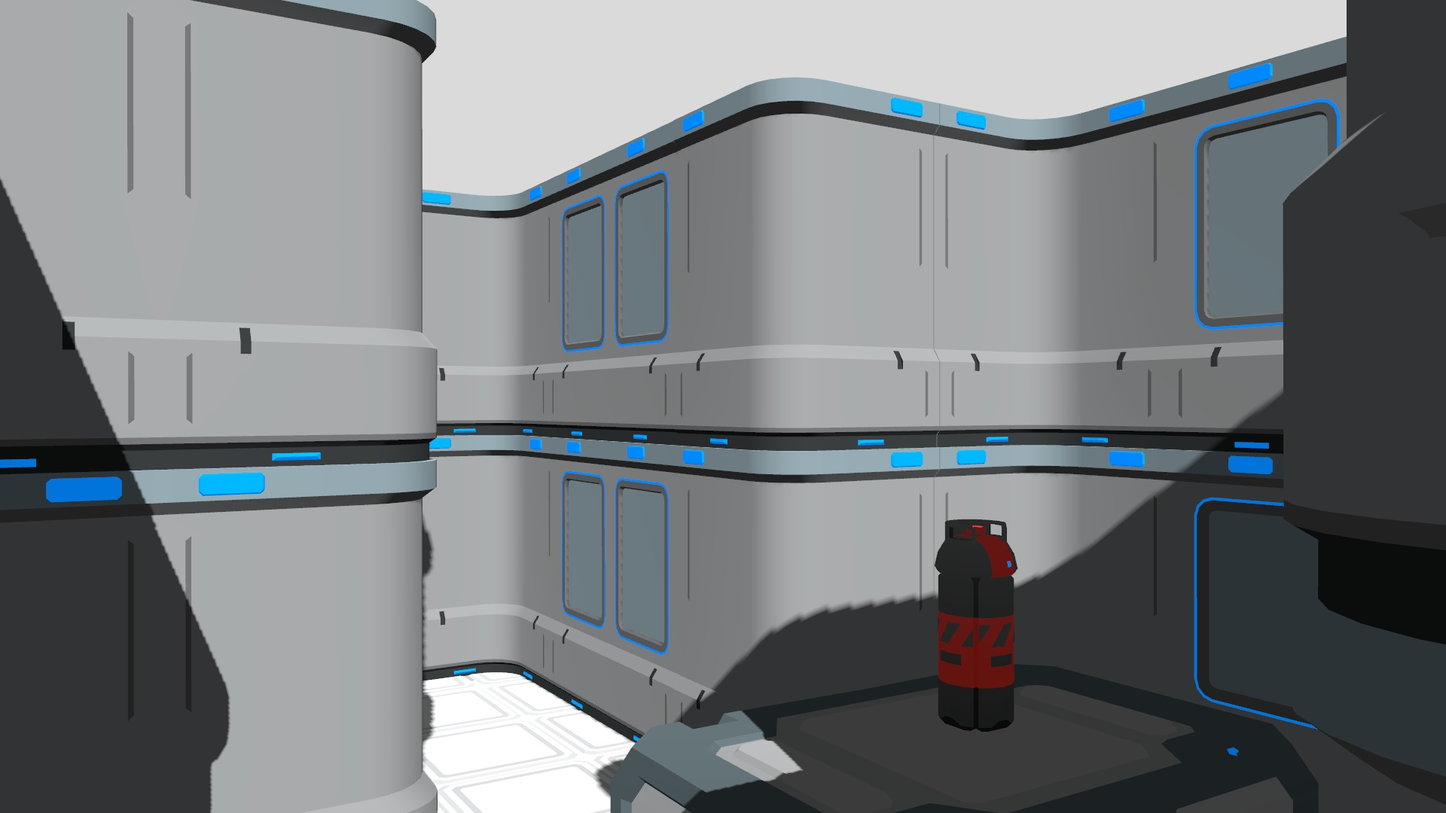red_barrel: (932, 513, 1020, 739)
